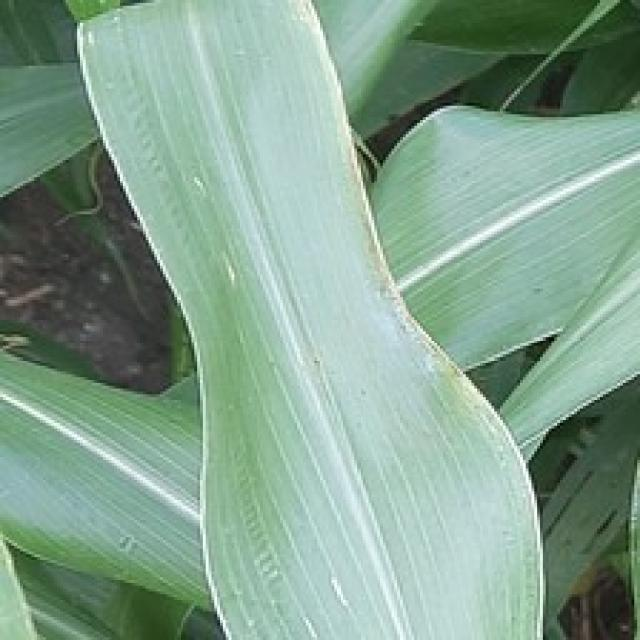Corn: (0, 0, 637, 637), (363, 91, 637, 460)
